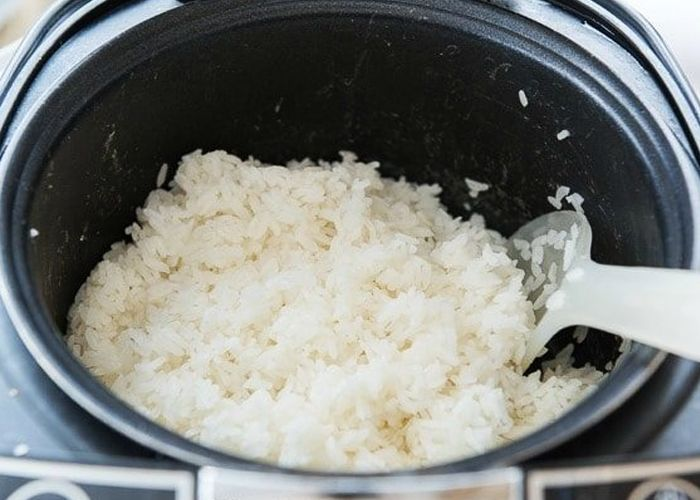Nasi Putih: (26, 132, 596, 467)
